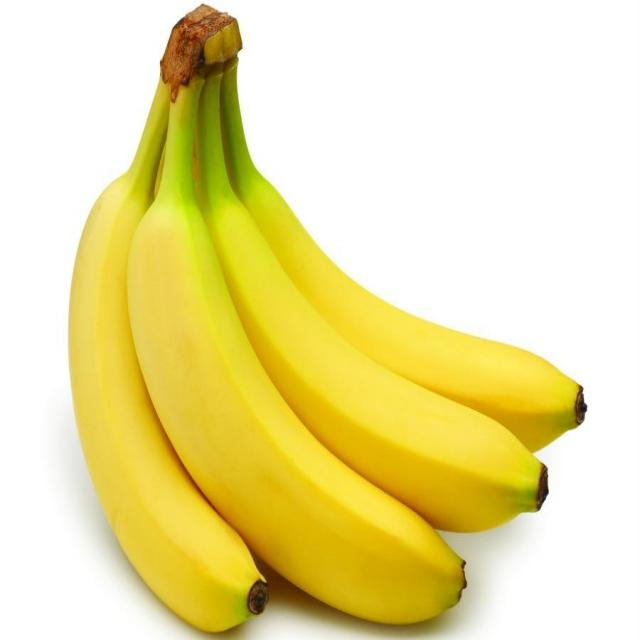banana: (57, 2, 600, 640)
